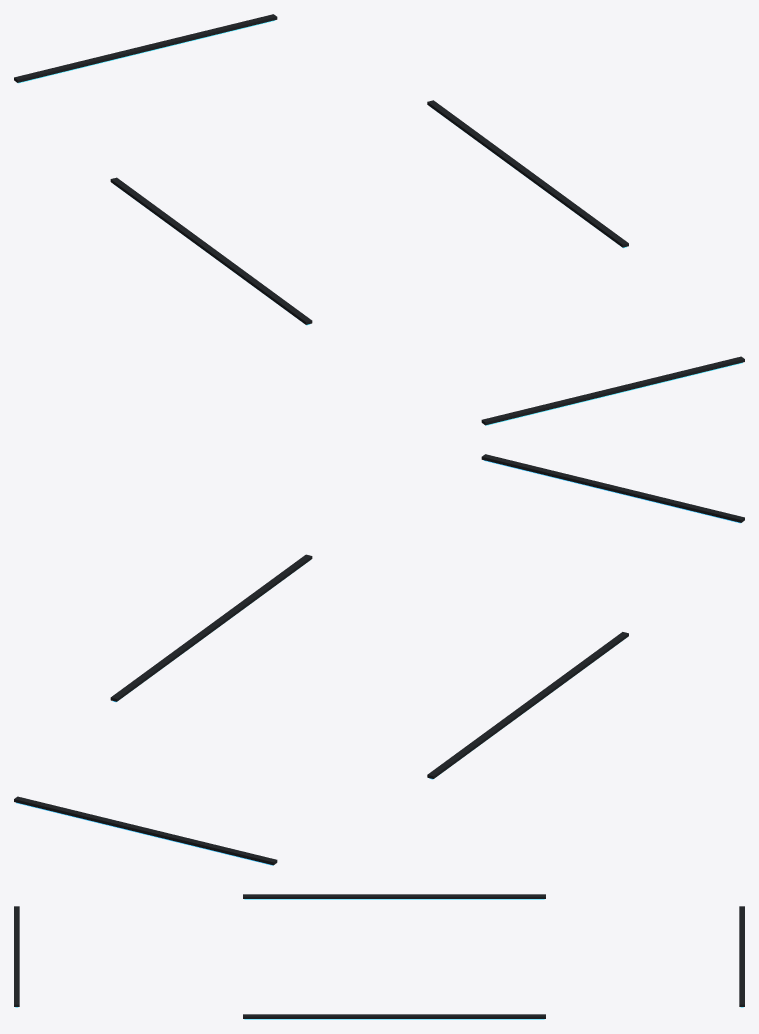
The model's file is hana_roadster.glb.
The picture shows the model from 3 angles, top to bottom: view 1: azimuth 30°, elevation 25°; view 2: azimuth 150°, elevation 25°; view 3: azimuth 270°, elevation 25°; orthographic projection. The views are drawn at different scales.
Parts seen in each view (by area): view 1: model; view 2: model; view 3: model.
Boxes of the visible parts, <box> form: model: <box>14,14,744,425</box>; model: <box>14,454,744,865</box>; model: <box>14,894,744,1019</box>.
Bounding box in the file's own units: 1.43 × 0.0181 × 3.61.
2 materials, 1 textured.
